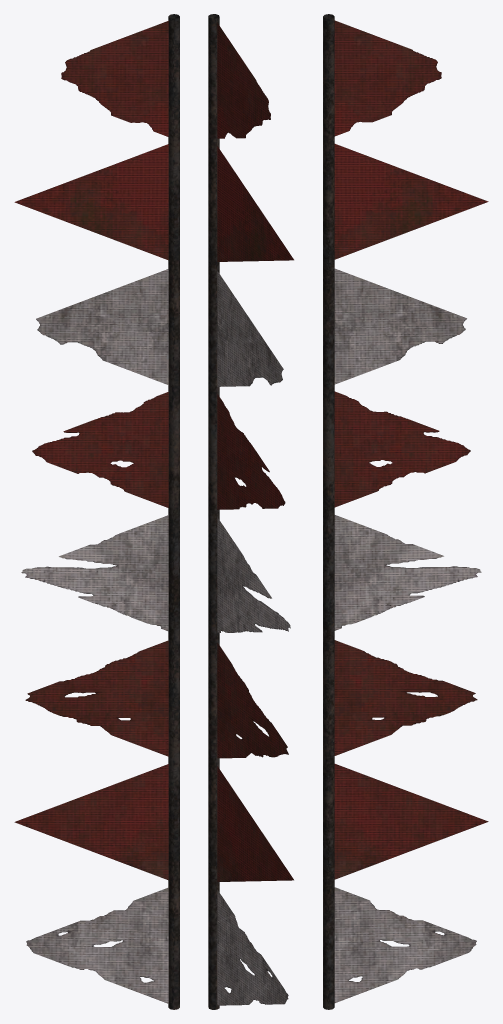
The model's file is HORSE_P_Flag02.FBX.
The picture shows the model from 3 angles, left to right: view 1: azimuth 90°, elevation 25°; view 2: azimuth 210°, elevation 25°; view 3: azimuth 270°, elevation 25°; orthographic projection.
Parts seen in each view (by area): view 1: HORSE_P_Flag02; view 2: HORSE_P_Flag02; view 3: HORSE_P_Flag02.
Boxes of the visible parts, <box> form: HORSE_P_Flag02: <box>14,14,179,1009</box>; HORSE_P_Flag02: <box>208,14,293,1009</box>; HORSE_P_Flag02: <box>323,14,488,1009</box>.
Bounding box in the file's own units: 4 × 378 × 57.34.
